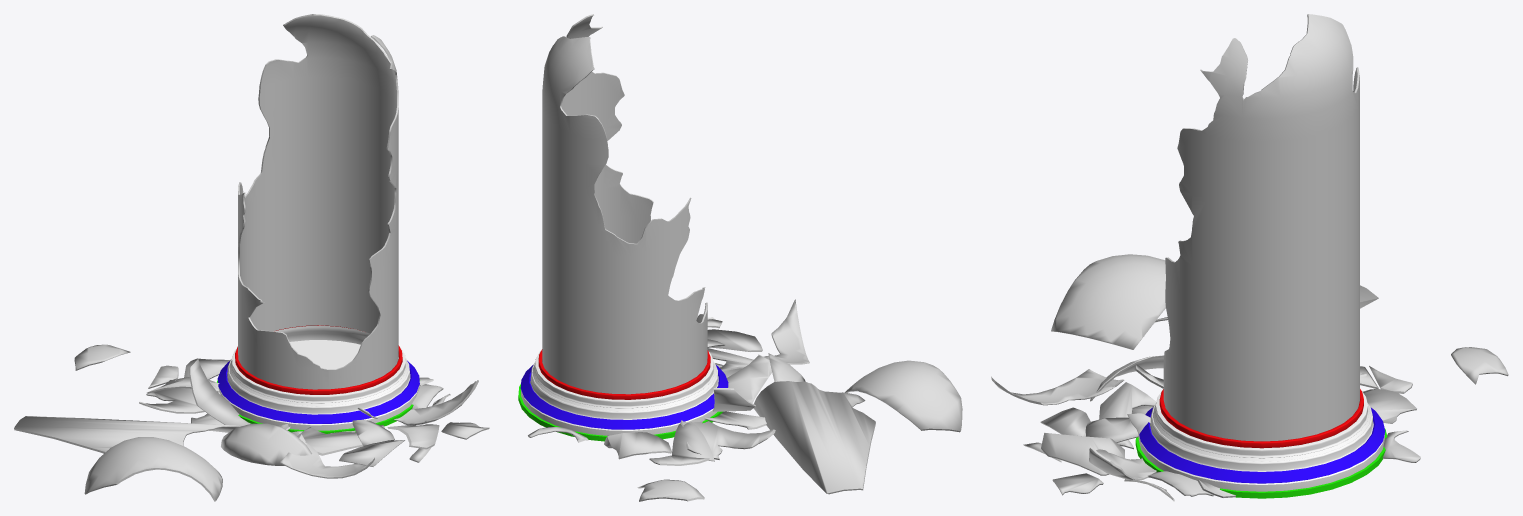
Rendered from glasscontainer_01.fbx.
3 renders of one model, left to right at view 1: azimuth 30°, elevation 25°; view 2: azimuth 150°, elevation 25°; view 3: azimuth 270°, elevation 25°, orthographic. The views are drawn at different scales.
Visible parts, largest first — view 1: Sphere.010, Sphere.007_cell.017_cell.005, Sphere.002; view 2: Sphere.010, Sphere.007_cell.017_cell.005, Sphere.002; view 3: Sphere.010, Sphere.007_cell.017_cell.005, Sphere.002.
Boxes of the visible parts, x1,y1,x2,y2 form: Sphere.010: [238, 14, 398, 389]; Sphere.007_cell.017_cell.005: [14, 344, 489, 501]; Sphere.002: [216, 325, 419, 433]; Sphere.010: [542, 14, 707, 394]; Sphere.007_cell.017_cell.005: [528, 299, 962, 501]; Sphere.002: [518, 349, 728, 441]; Sphere.010: [1163, 14, 1359, 441]; Sphere.007_cell.017_cell.005: [991, 254, 1508, 501]; Sphere.002: [1135, 389, 1387, 498].
Bounding box in the file's own units: 265 × 243 × 259.
